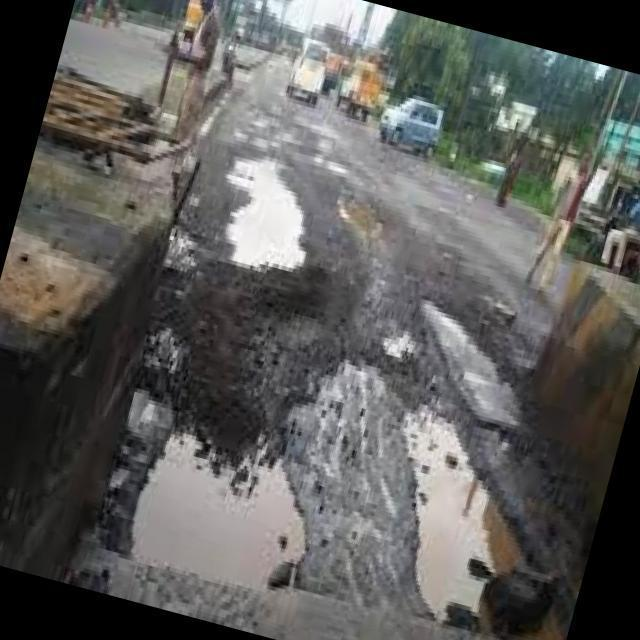Pothole: (130, 438, 304, 591), (402, 411, 519, 623), (420, 300, 518, 429), (224, 161, 307, 271), (337, 197, 381, 241)
